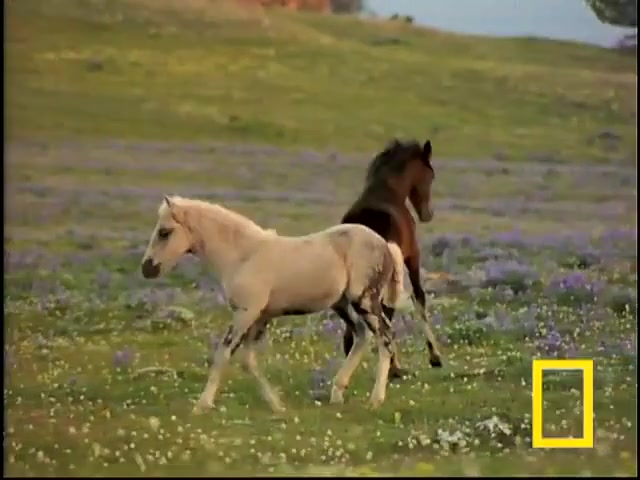horse: (141, 193, 417, 415)
